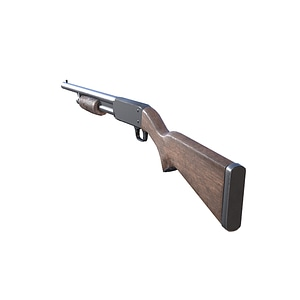weapon: (59, 79, 245, 232)
